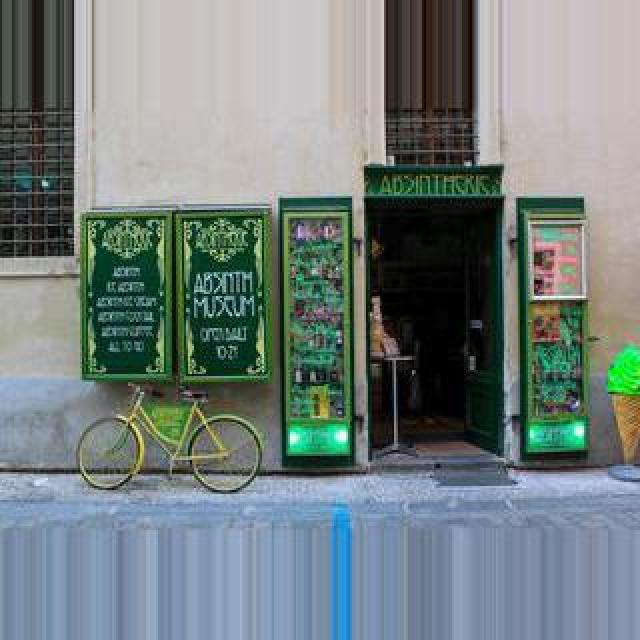Person: (80, 382, 262, 494)
